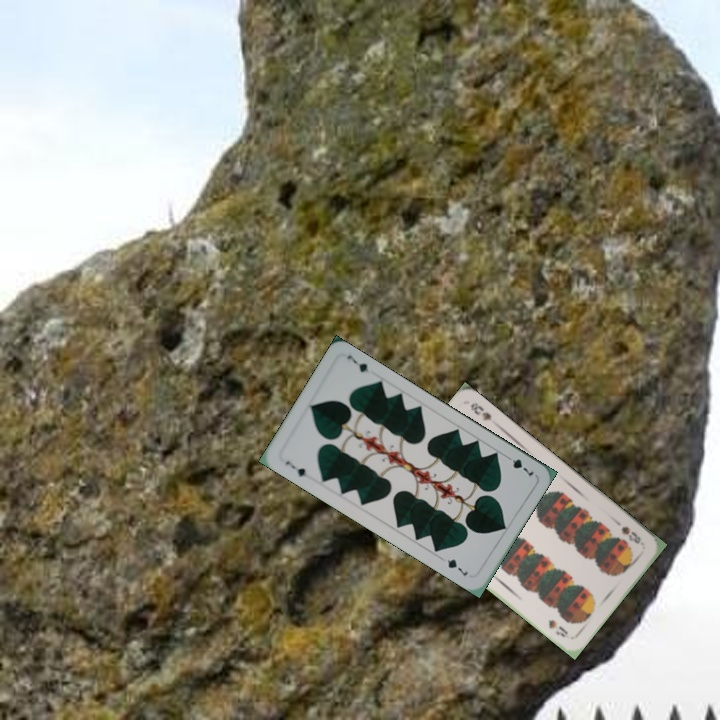G7: (501, 451, 537, 478), (281, 457, 309, 480)
S8: (617, 522, 647, 548)
